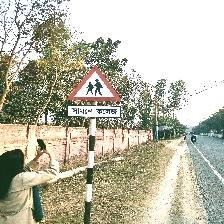College-in-front: (60, 65, 131, 138)
